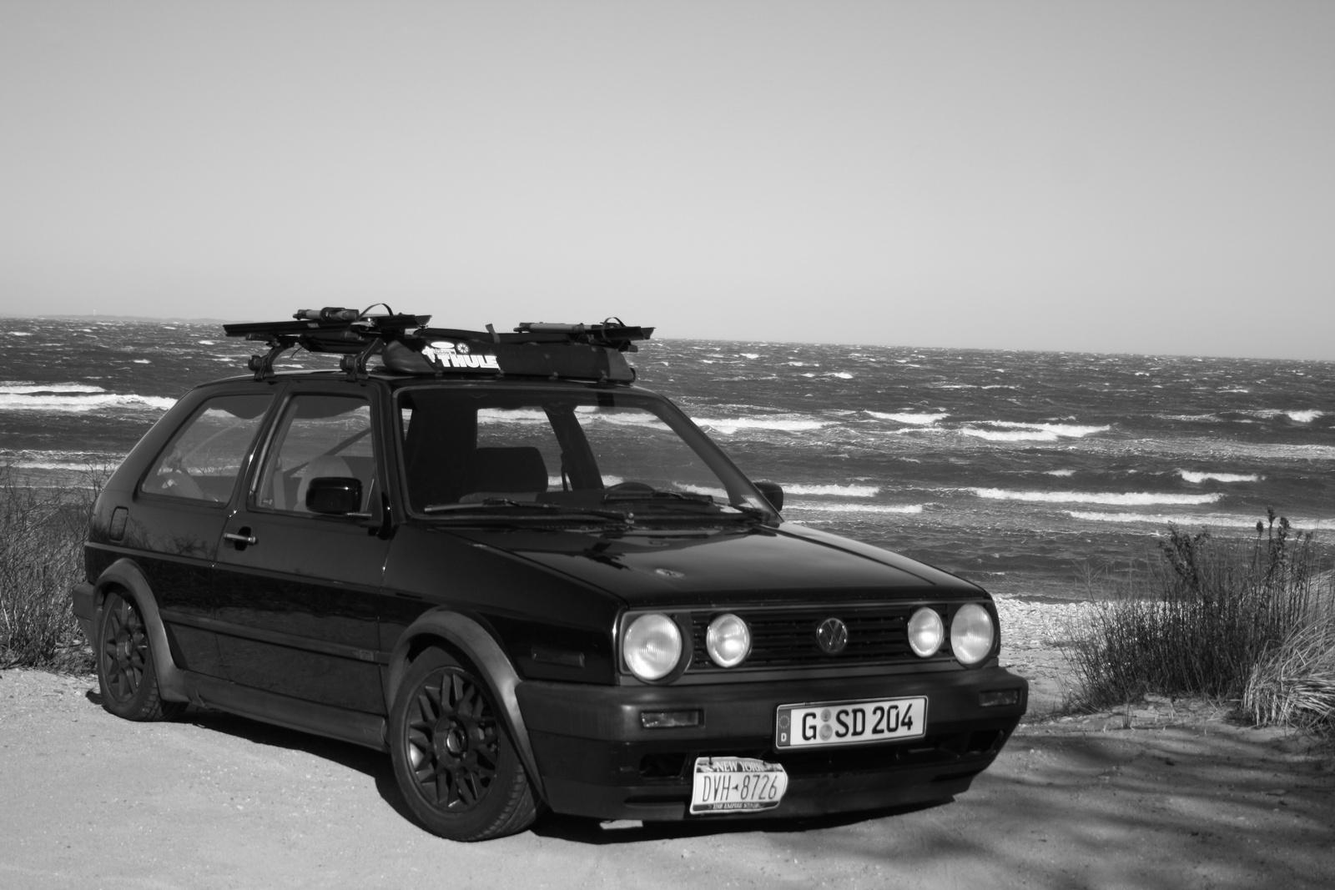car: (63, 299, 1031, 847)
